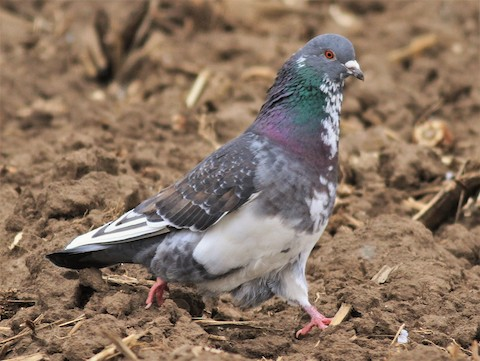pigeon: (38, 27, 373, 338)
